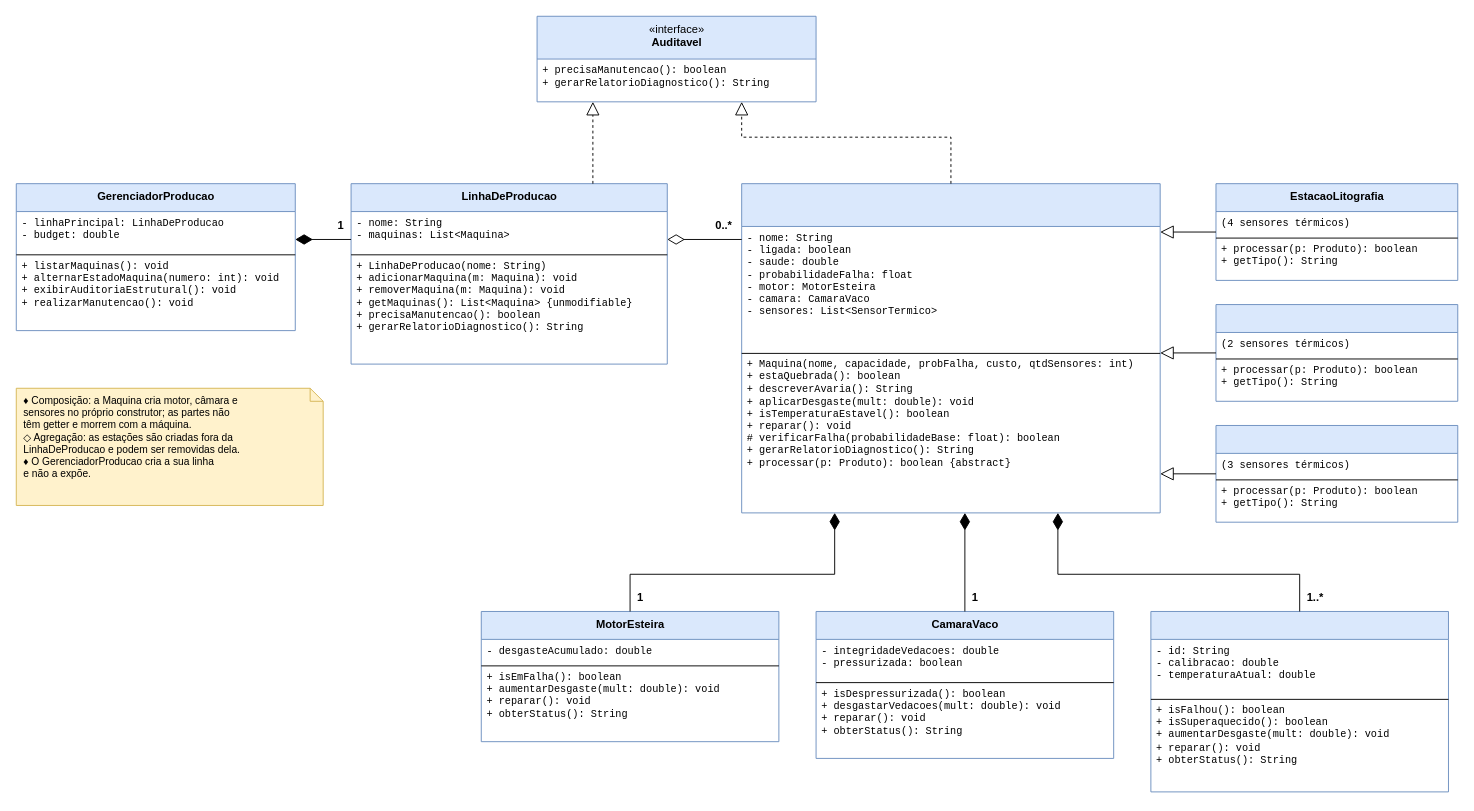
Image size: 1474x811. Some labels were removed from this diagram. The box of each missing label's shape, as (x1, y1, x2, y2) in pixels:
EstacaoEncapsulamento: (1215, 304, 1458, 401)
EstacaoMetrologia: (1215, 425, 1458, 522)
SensorTermico: (1150, 611, 1448, 792)
{abstract} Maquina: (741, 183, 1160, 513)
